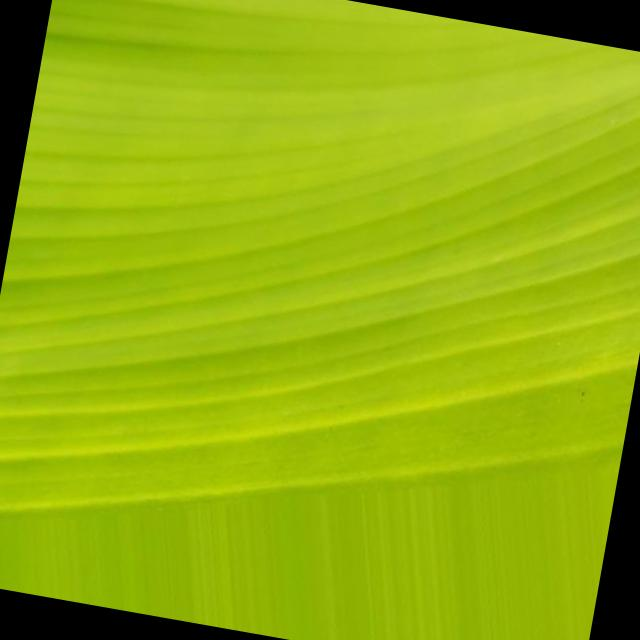Banana_Healthy: (78, 32, 521, 414)
